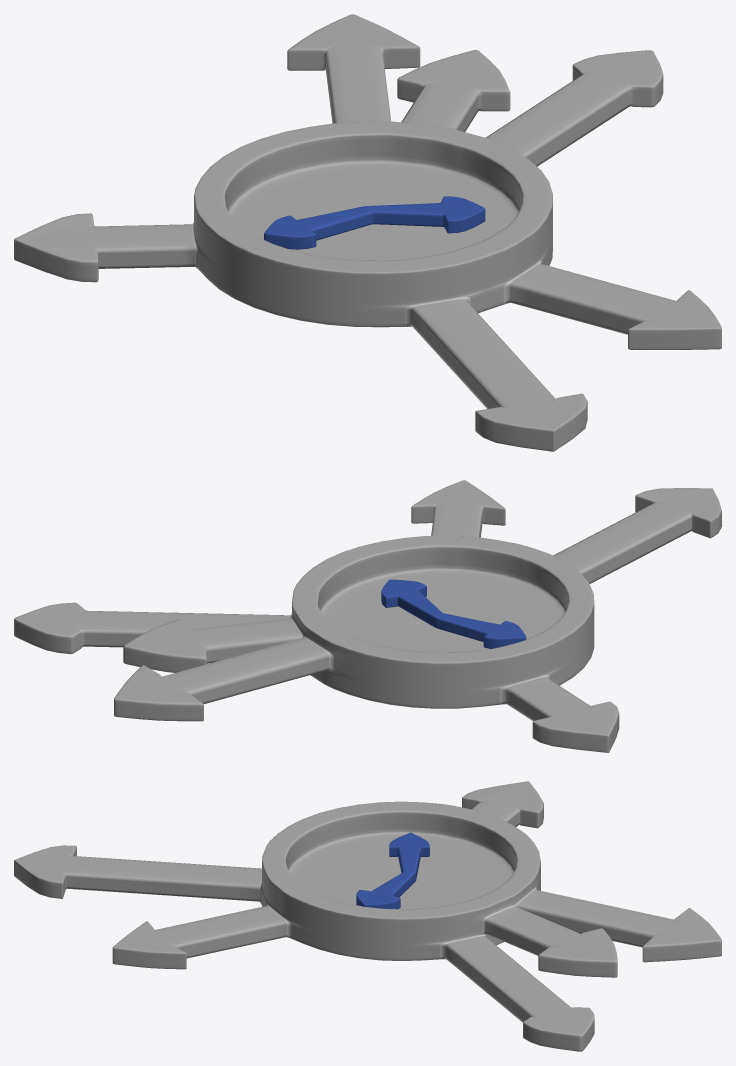
The model's file is clock.fbx.
3 renders of one model, top to bottom at view 1: azimuth 30°, elevation 25°; view 2: azimuth 150°, elevation 25°; view 3: azimuth 270°, elevation 25°, orthographic. The views are drawn at different scales.
Parts seen in each view (by area): view 1: pCube2; view 2: pCube2; view 3: pCube2.
Boxes of the visible parts, x1,y1,x2,y2 form: pCube2: [14, 14, 721, 451]; pCube2: [14, 480, 721, 752]; pCube2: [14, 781, 721, 1051].
Size of the model in its own units: 4.28 by 0.34 by 5.02.
